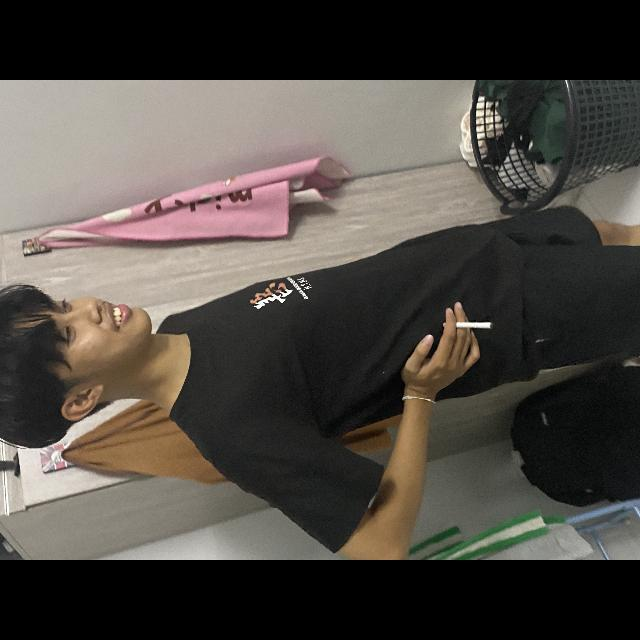rokok: (202, 503, 266, 583)
